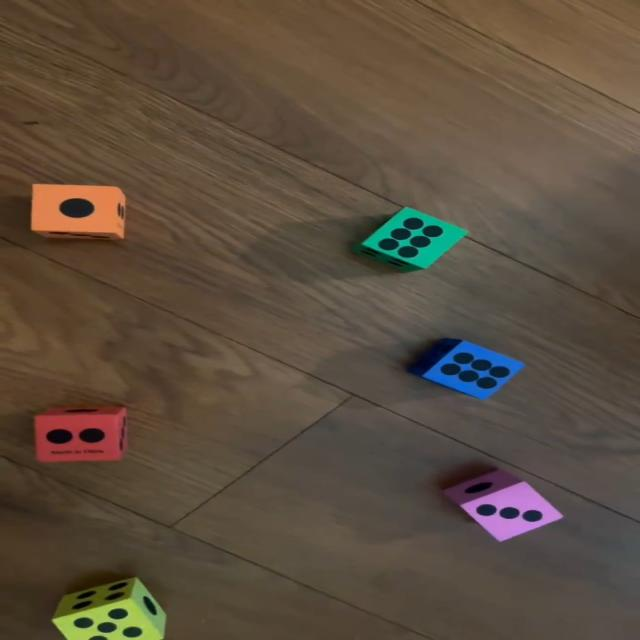blue_block: (401, 336, 527, 402)
red_block: (33, 404, 131, 462)
